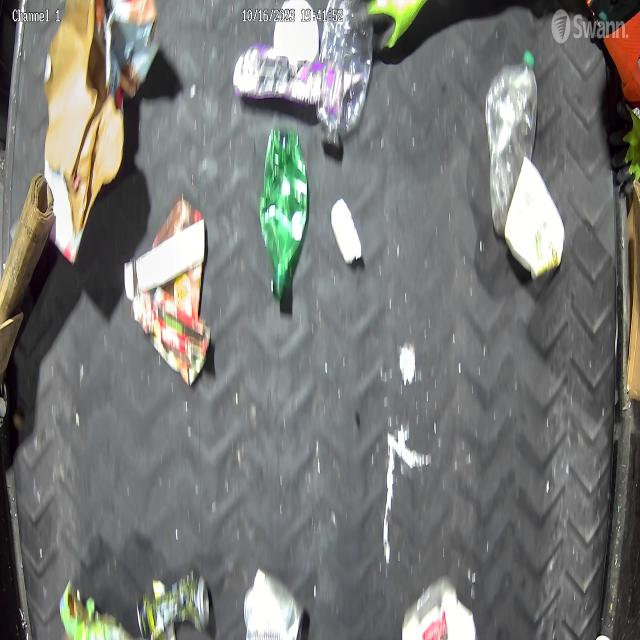can: (135, 564, 210, 640), (244, 566, 306, 640)
plastic_bottle: (484, 49, 538, 238), (258, 128, 310, 301), (319, 0, 373, 155)
